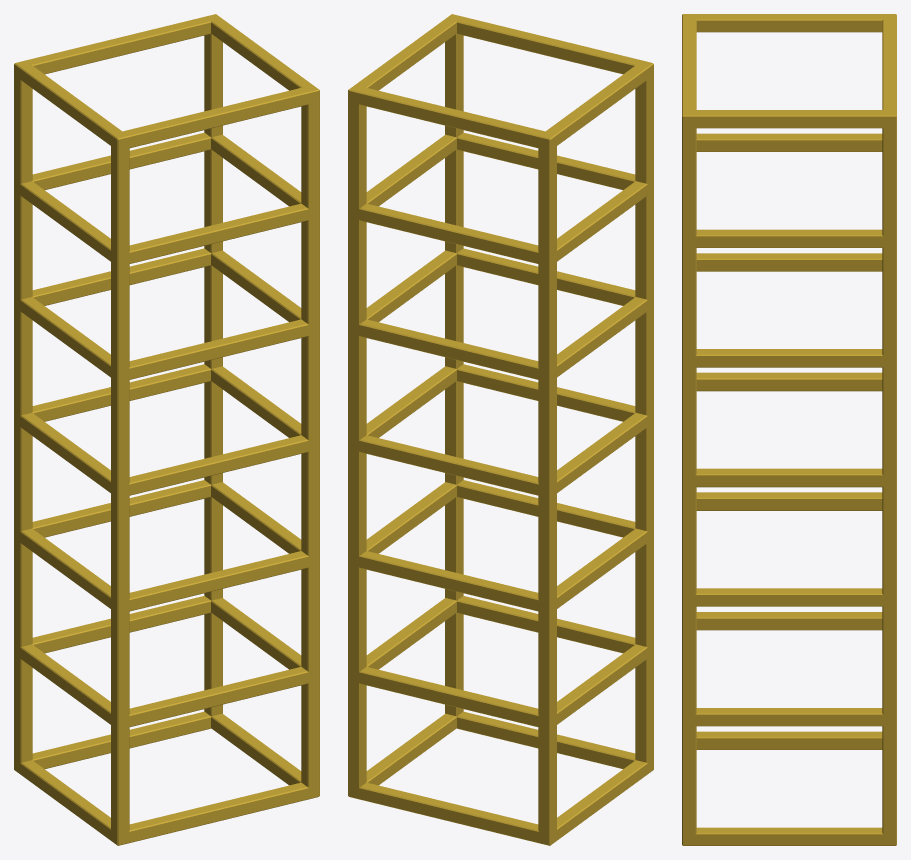
Rendered from GE_CAGE_3M_LODs.fbx.
The picture shows the model from 3 angles, left to right: view 1: azimuth 30°, elevation 25°; view 2: azimuth 150°, elevation 25°; view 3: azimuth 270°, elevation 25°; orthographic projection. The views are drawn at different scales.
Parts seen in each view (by area): view 1: GE_CAGE_3M_LOD0; view 2: GE_CAGE_3M_LOD0; view 3: GE_CAGE_3M_LOD0.
Boxes of the visible parts, bbox=[...] form: GE_CAGE_3M_LOD0: bbox=[14, 14, 319, 845]; GE_CAGE_3M_LOD0: bbox=[348, 14, 653, 845]; GE_CAGE_3M_LOD0: bbox=[682, 14, 896, 845].
Size of what is drawn, in the model's own units: 0.9 by 3 by 0.8.
